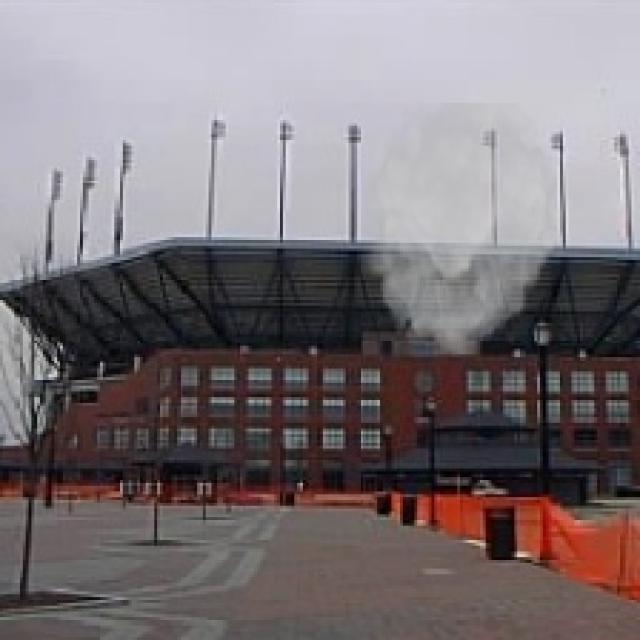smoke: (357, 103, 569, 354)
